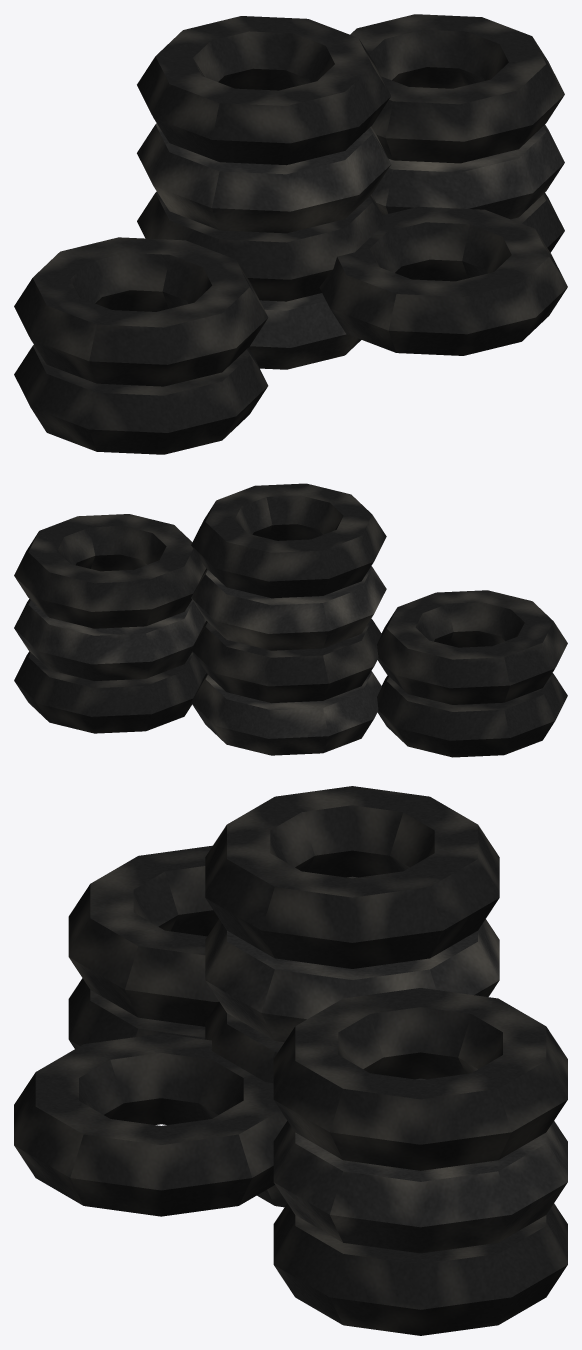
The model's file is tyre_stack.glb.
3 views of the same model, one above another, from view 1: azimuth 30°, elevation 25°; view 2: azimuth 150°, elevation 25°; view 3: azimuth 270°, elevation 25° (orthographic). The views are drawn at different scales.
Parts seen in each view (by area): view 1: tyre_stack; view 2: tyre_stack; view 3: tyre_stack.
Boxes of the visible parts, <box> form: tyre_stack: <box>14,14,567,454</box>; tyre_stack: <box>14,483,567,757</box>; tyre_stack: <box>14,786,567,1335</box>.
Size of the model in its own units: 1.85 by 0.7732 by 1.22.
2 materials, 2 textured.
